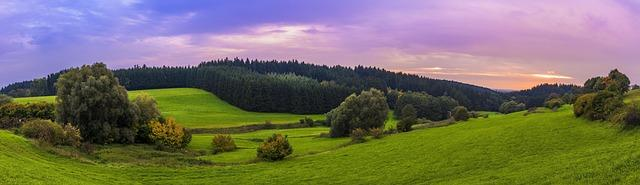Non_Gorille: (84, 4, 589, 170)
